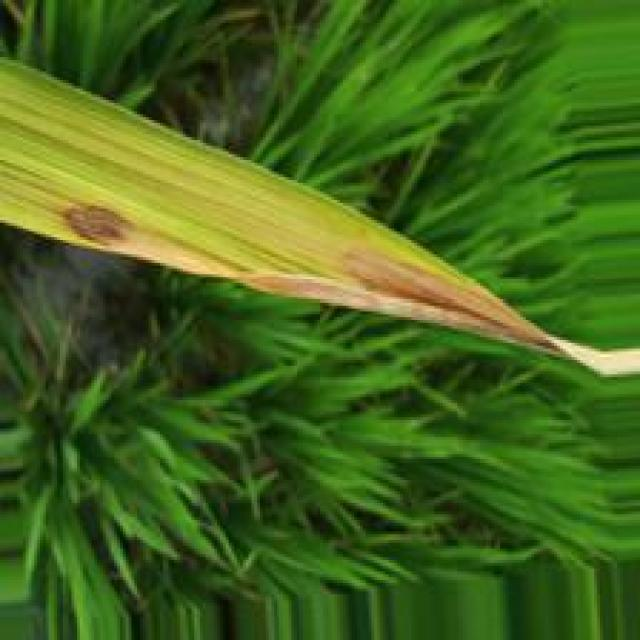Rice False Smut: (236, 238, 565, 352), (55, 202, 139, 250)
